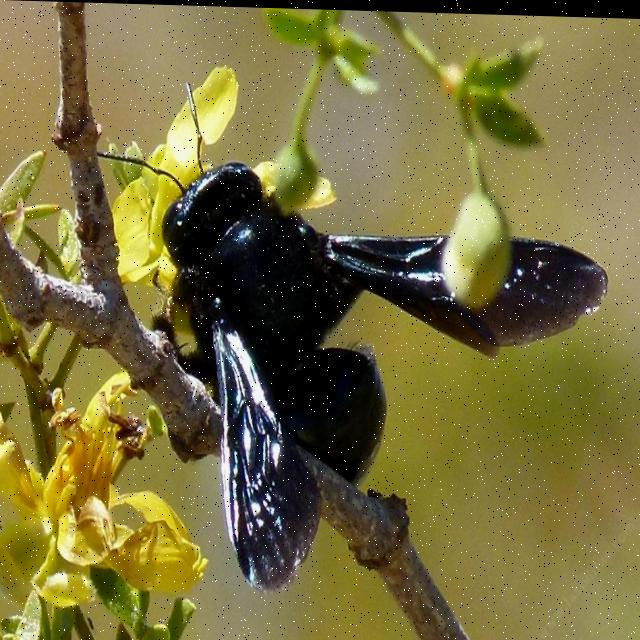Xylocopa: (84, 71, 616, 609)
